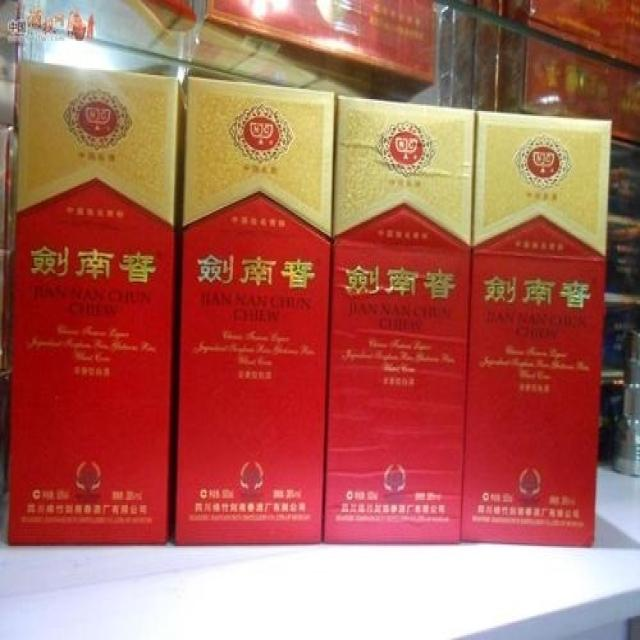box: (10, 61, 177, 544), (175, 78, 333, 546), (325, 98, 478, 544), (461, 111, 612, 547)
